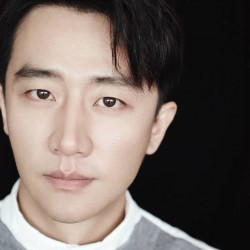unmask: (4, 52, 154, 223)
